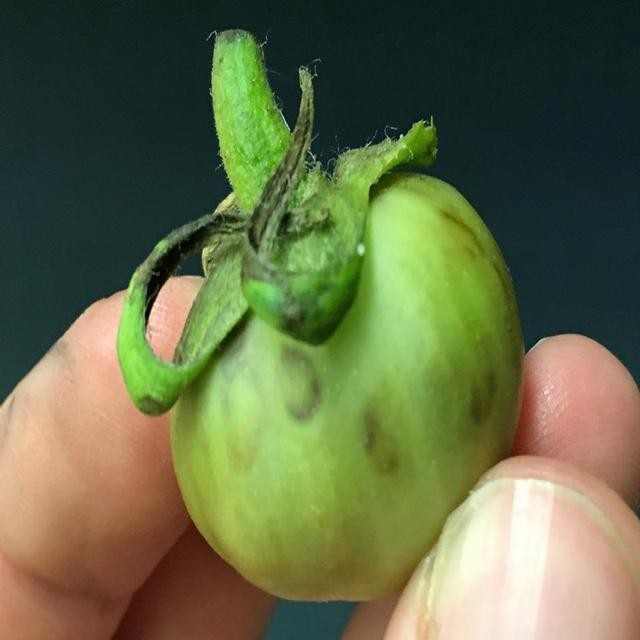Spotted wilt Virus Fruit: (123, 60, 365, 229)
